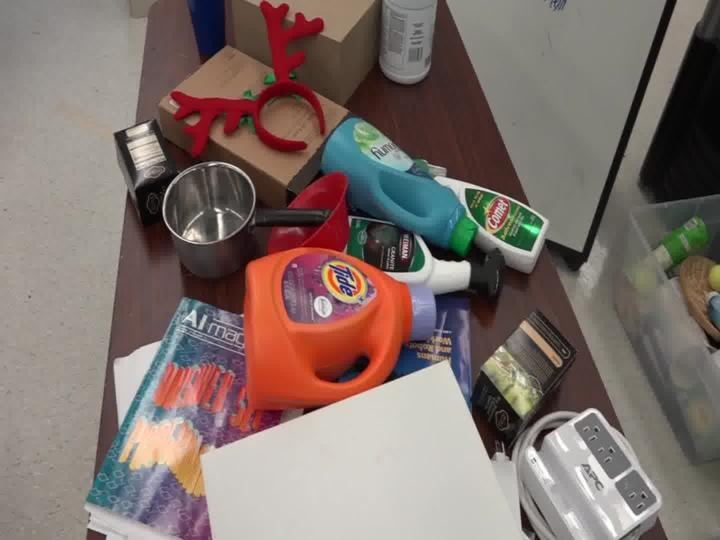tide: (218, 221, 446, 411)
